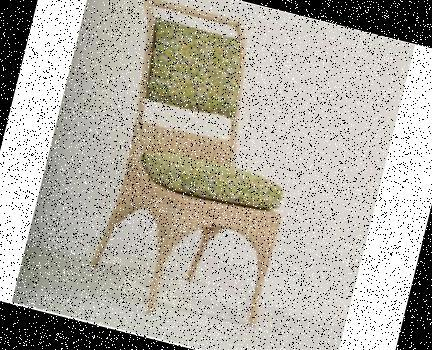Silla: (72, 0, 328, 342)
